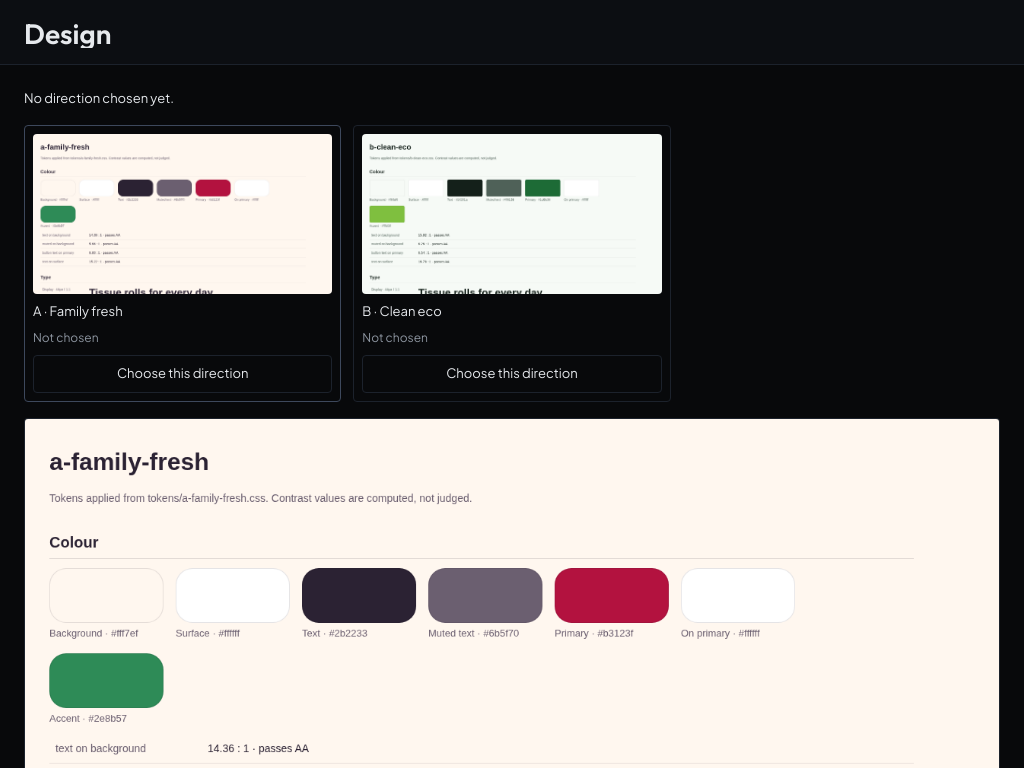
Test case: choosing a design direction › records a choice with its reason, and shows it as chosen
This screenshot has width=1024, height=768.
Click the 2nd button "Choose this direction".
click(512, 374)  # box [362,355,662,392]
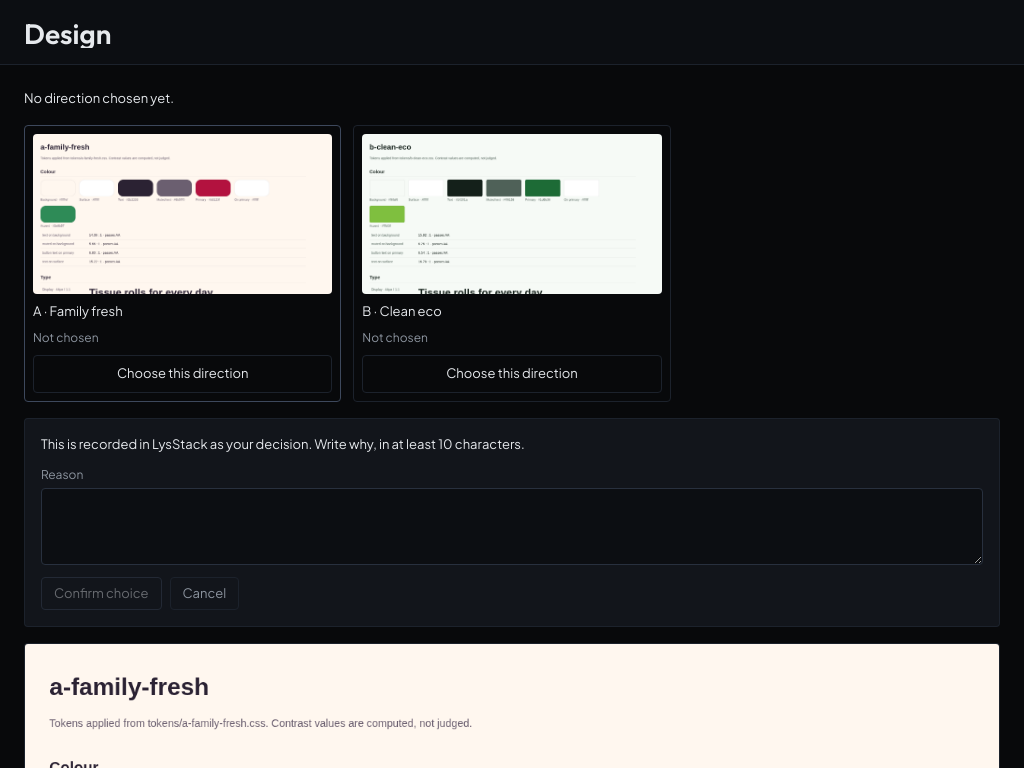
Type "Clear for buyers and calm." into the text box labelled "Reason".
click(512, 526); type("Clear for buyers and calm.")  # box [41,488,983,564]
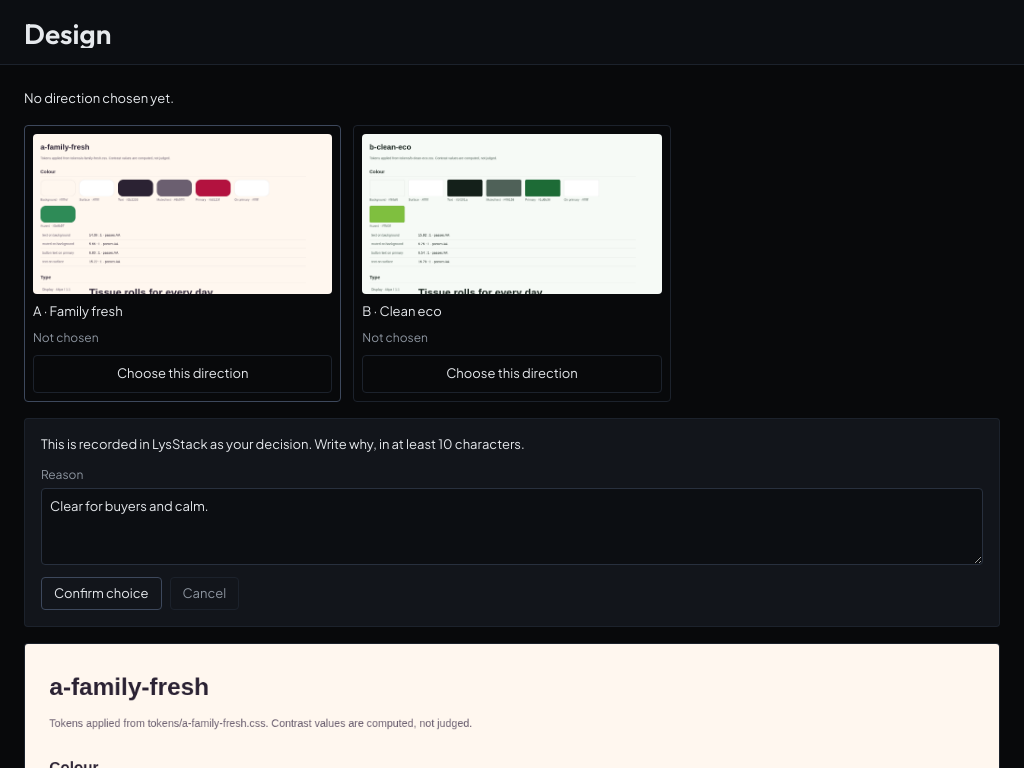
Click the button "Confirm choice".
click(101, 593)  # box [41,576,162,610]
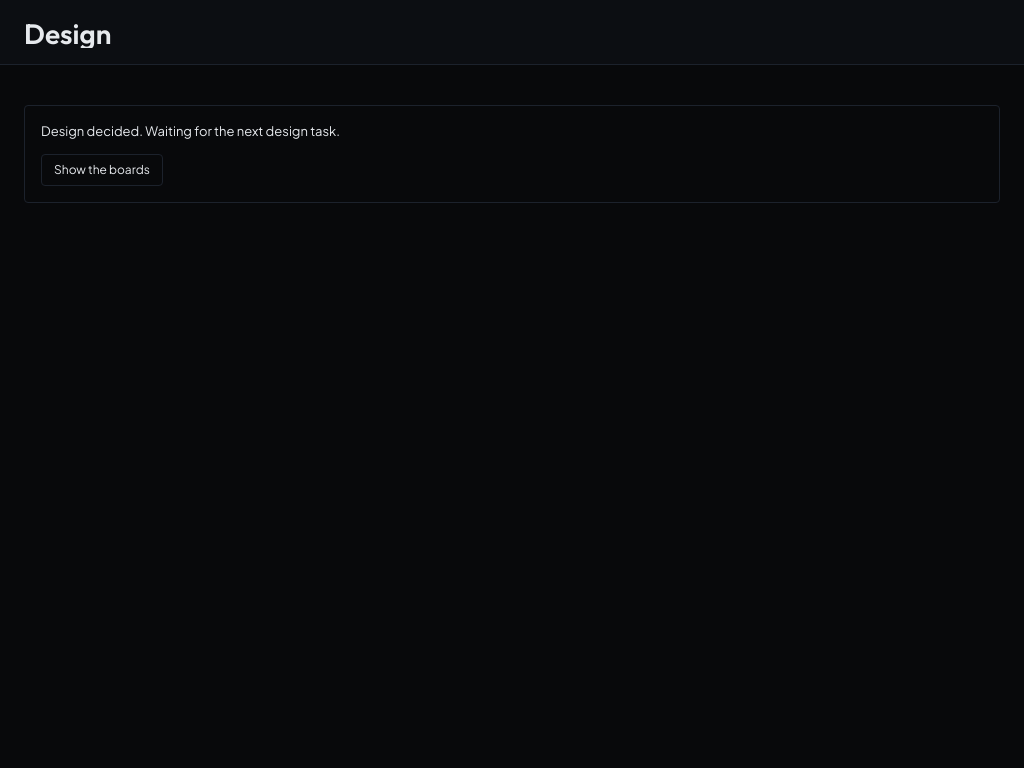
Check: the button "Show the boards" is shown, box [41,154,163,186]
